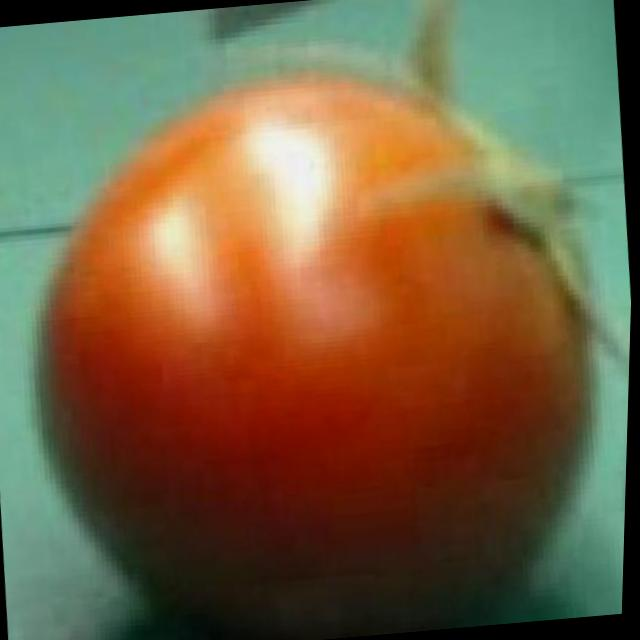tomato: (8, 50, 617, 640)
